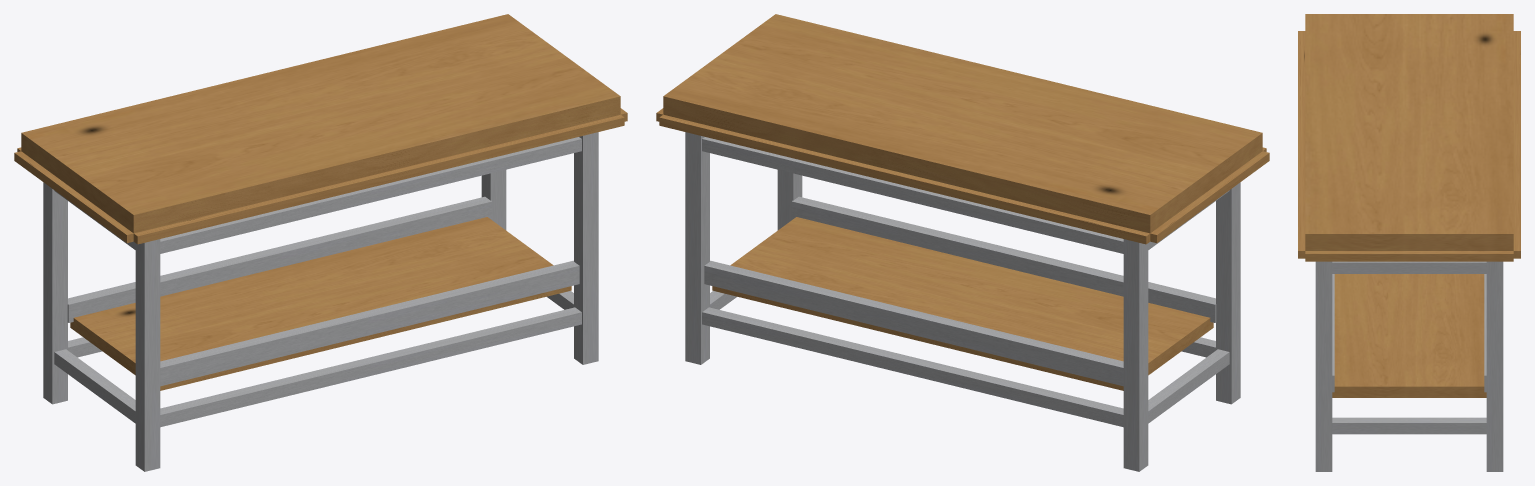
The model's file is Workdesk.fbx.
The picture shows the model from 3 angles, left to right: view 1: azimuth 30°, elevation 25°; view 2: azimuth 150°, elevation 25°; view 3: azimuth 270°, elevation 25°; orthographic projection. The views are drawn at different scales.
Parts seen in each view (by area): view 1: Madera Superior, Metal, Repisa inferior; view 2: Madera Superior, Metal, Repisa inferior; view 3: Madera Superior, Repisa inferior, Metal.
Boxes of the visible parts, x1,y1,x2,y2 form: Madera Superior: [14, 14, 627, 244]; Metal: [43, 132, 598, 471]; Repisa inferior: [70, 217, 571, 390]; Madera Superior: [656, 14, 1269, 244]; Metal: [685, 132, 1240, 471]; Repisa inferior: [712, 217, 1213, 390]; Madera Superior: [1298, 14, 1520, 261]; Repisa inferior: [1332, 274, 1486, 397]; Metal: [1315, 261, 1503, 471].
Size of the model in its own units: 514 by 260 by 214.
Materials: 3 (3 with a texture image).
